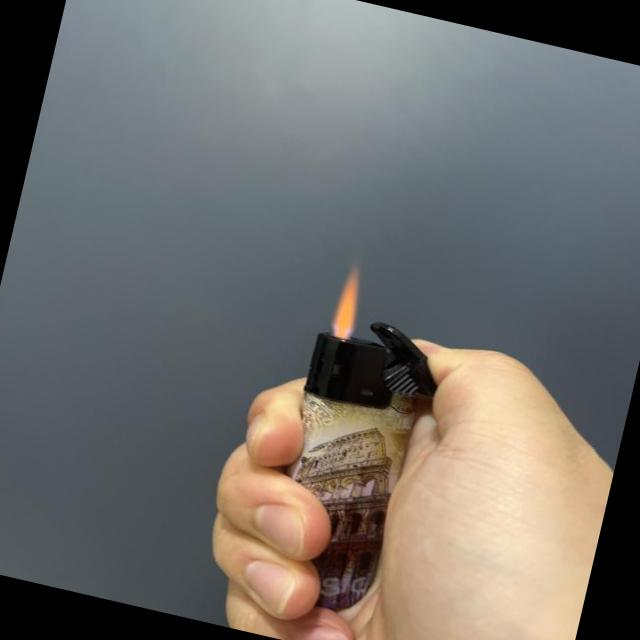Fire: (328, 266, 369, 340)
